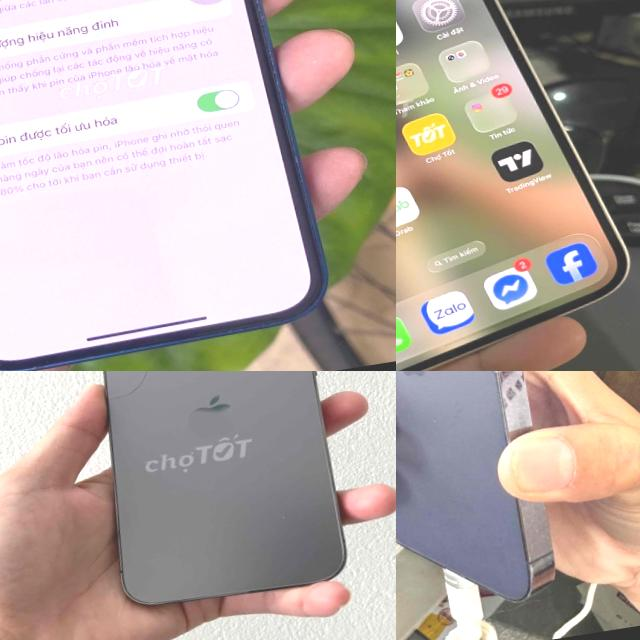physical_damage: (92, 371, 278, 408)
